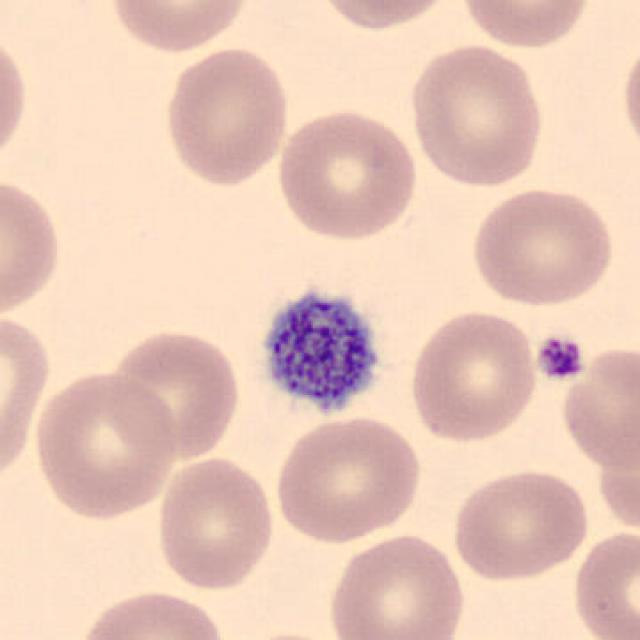Platelets: (256, 280, 389, 422), (532, 332, 588, 382)
RBC: (29, 365, 180, 522), (406, 41, 548, 190), (270, 412, 425, 546), (272, 104, 421, 243), (158, 44, 294, 189), (103, 326, 244, 462), (466, 184, 618, 310), (406, 307, 540, 446), (153, 453, 279, 593), (448, 464, 594, 584), (323, 530, 469, 640), (554, 342, 640, 474), (0, 171, 66, 324), (0, 307, 55, 488), (73, 585, 229, 640), (105, 0, 254, 55), (569, 525, 638, 640), (457, 0, 594, 51), (311, 0, 460, 33), (0, 24, 32, 172), (617, 35, 640, 162), (220, 627, 359, 640)
